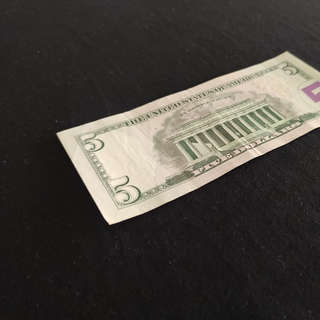5USDBack: (55, 50, 320, 226)
